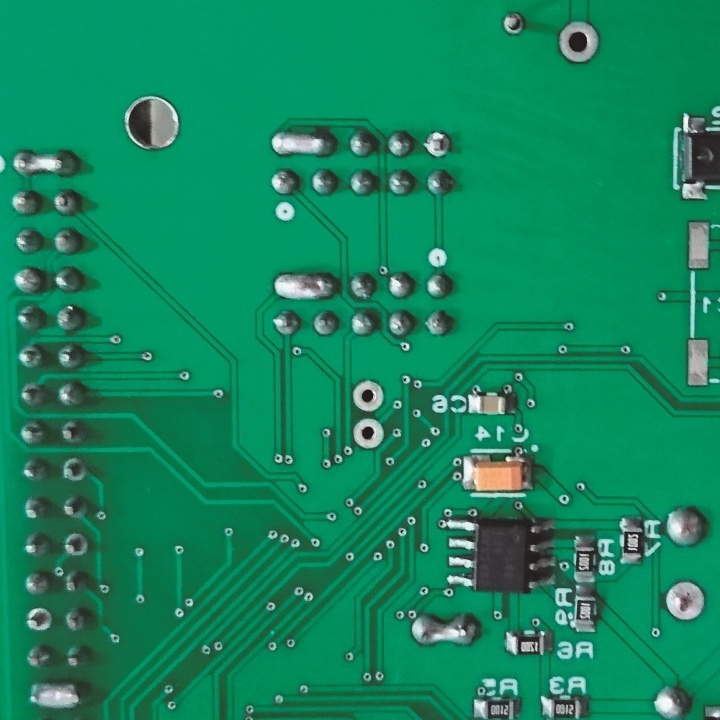F: (661, 578, 712, 625), (556, 20, 604, 66), (352, 380, 387, 415), (354, 414, 386, 452), (24, 603, 54, 636), (421, 130, 453, 158), (497, 11, 530, 38), (61, 456, 91, 485), (61, 532, 92, 559)
P: (7, 145, 81, 180), (409, 613, 480, 649), (270, 269, 339, 303), (270, 127, 338, 161), (26, 680, 91, 712)
